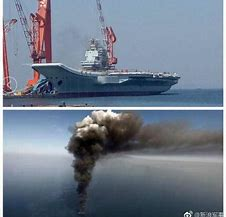smoke: (66, 109, 223, 202)
